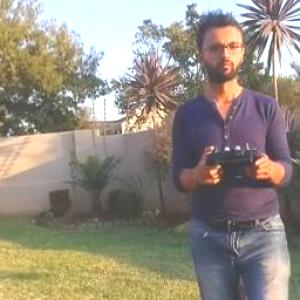follow: (170, 0, 300, 299)
